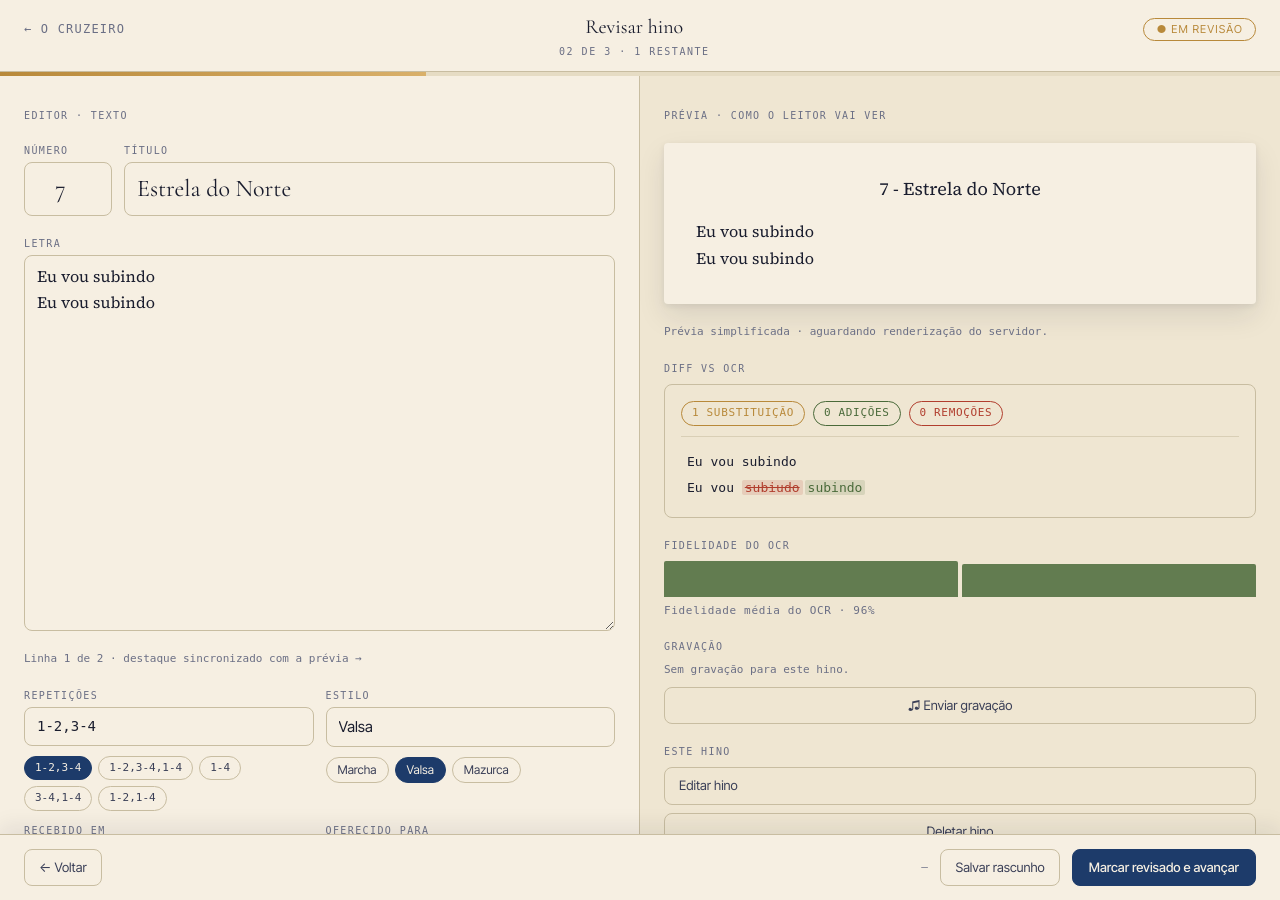
Scenario: 5C.7 — pílulas de repetição preenchem o campo › clicar em `3-4,1-4` escreve no input de Repetições
The width and height of the screenshot is (1280, 900).
Expected: the field labelled "Repetições" holds "1-2,3-4", top-left (24, 707), bottom-right (314, 746)
Click the button "3-4,1-4": (58, 799) top-left (24, 786), bottom-right (92, 811)
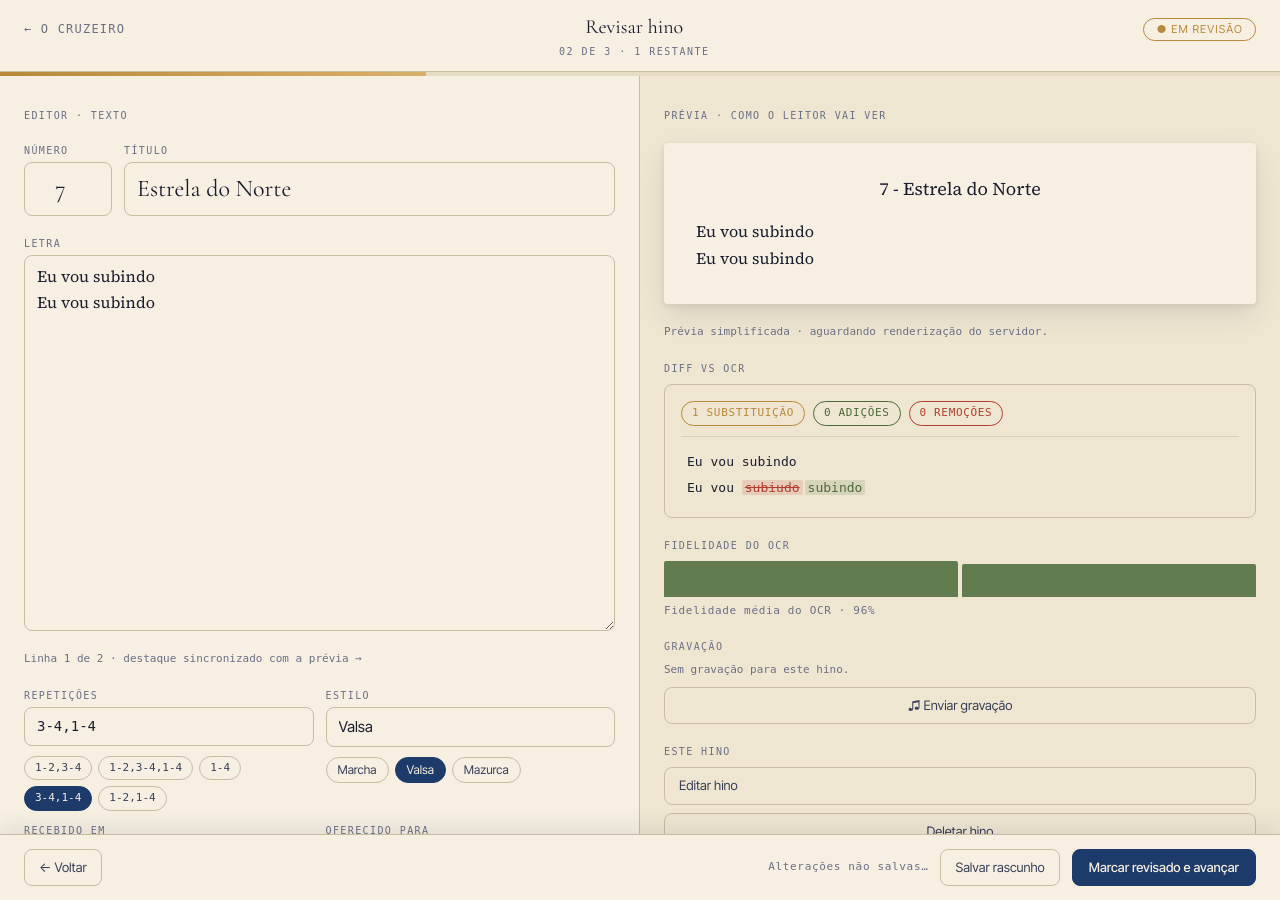
Expected: the field labelled "Repetições" holds "3-4,1-4", top-left (24, 707), bottom-right (314, 746)
